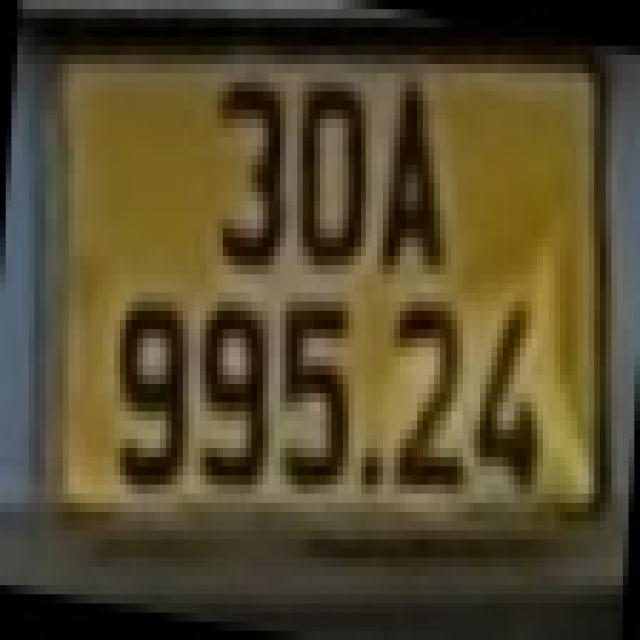0: (297, 73, 366, 265)
2: (388, 292, 468, 493)
3: (211, 73, 286, 274)
4: (474, 292, 543, 493)
5: (280, 292, 354, 493)
9: (114, 292, 189, 493), (194, 292, 269, 484)
A: (377, 73, 452, 274)
